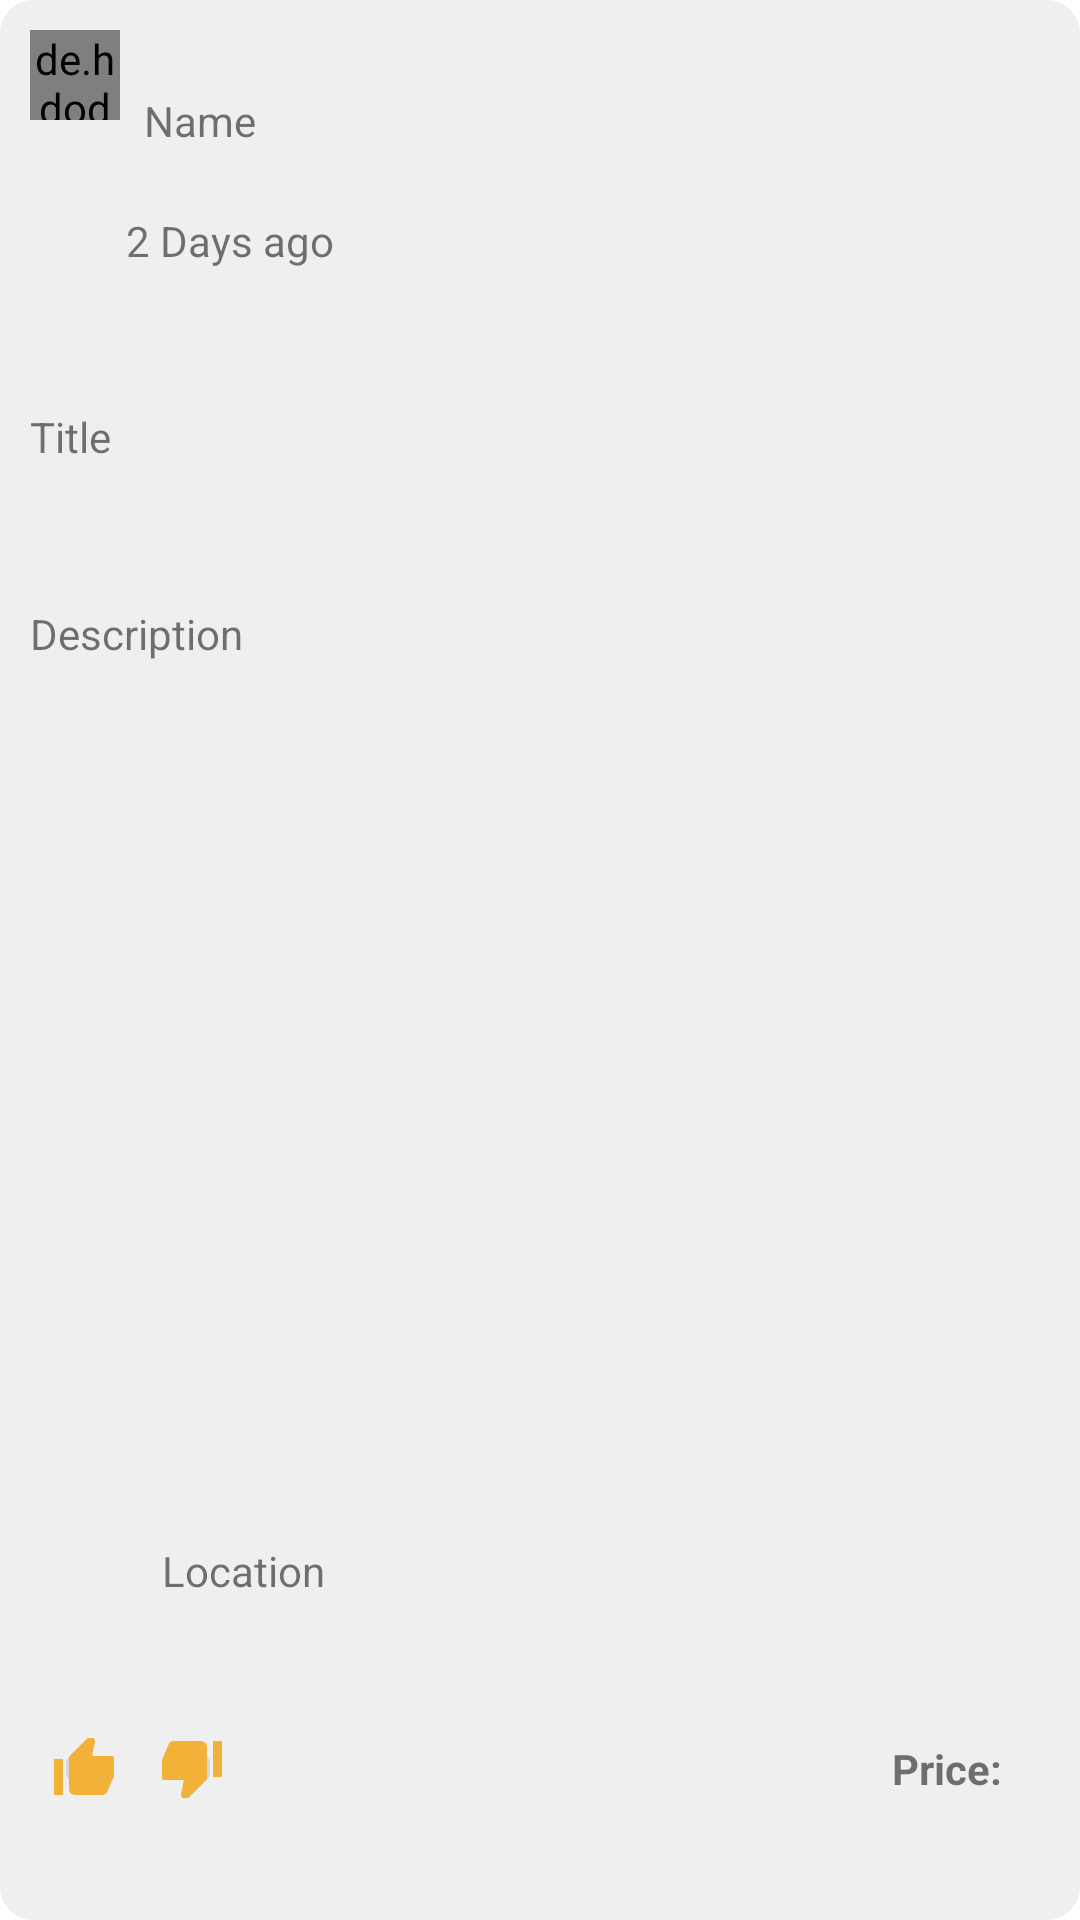

Screen size 1080px x 1920px. Icon name, then its center in pixels as (x=x, y=y):
dislike: (x=192, y=1769)
like: (x=84, y=1766)
